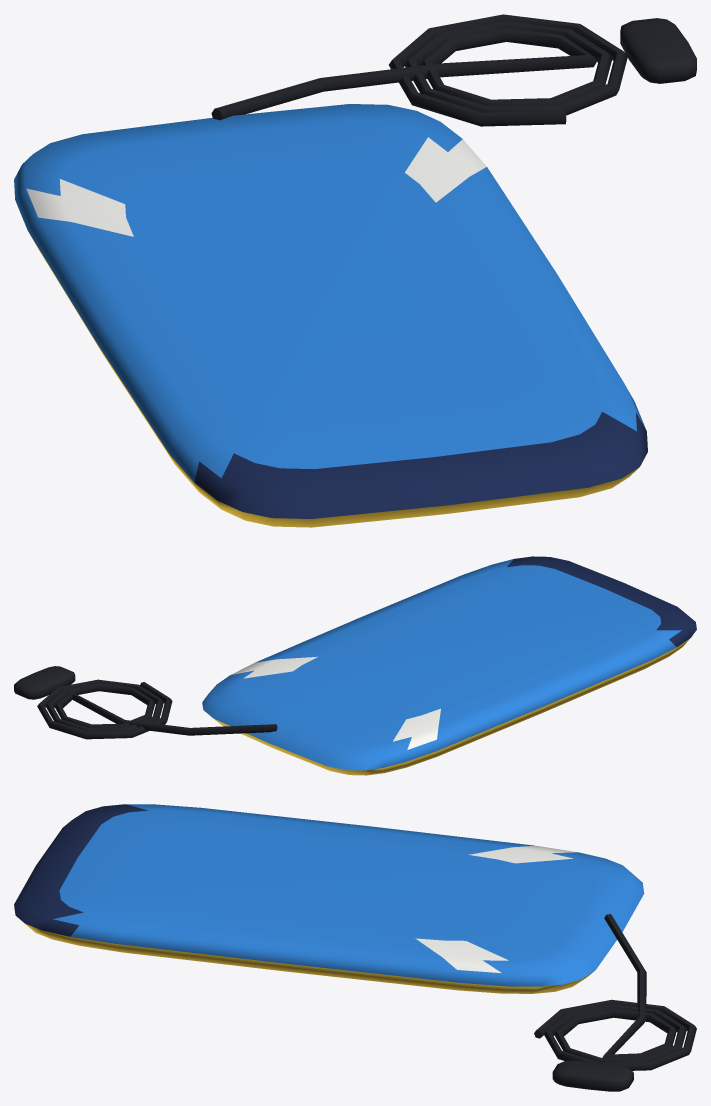
File: bodyboard_azul.glb
The picture shows the model from 3 angles, top to bottom: view 1: azimuth 30°, elevation 25°; view 2: azimuth 150°, elevation 25°; view 3: azimuth 270°, elevation 25°; orthographic projection. The views are drawn at different scales.
Parts seen in each view (by area): view 1: bodyboard_azul; view 2: bodyboard_azul; view 3: bodyboard_azul.
Boxes of the visible parts, x1,y1,x2,y2 form: bodyboard_azul: [14, 14, 696, 527]; bodyboard_azul: [14, 556, 696, 775]; bodyboard_azul: [14, 804, 696, 1091].
Size of the model in its own units: 1.09 by 0.0619 by 1.18.
1 material, 1 textured.
